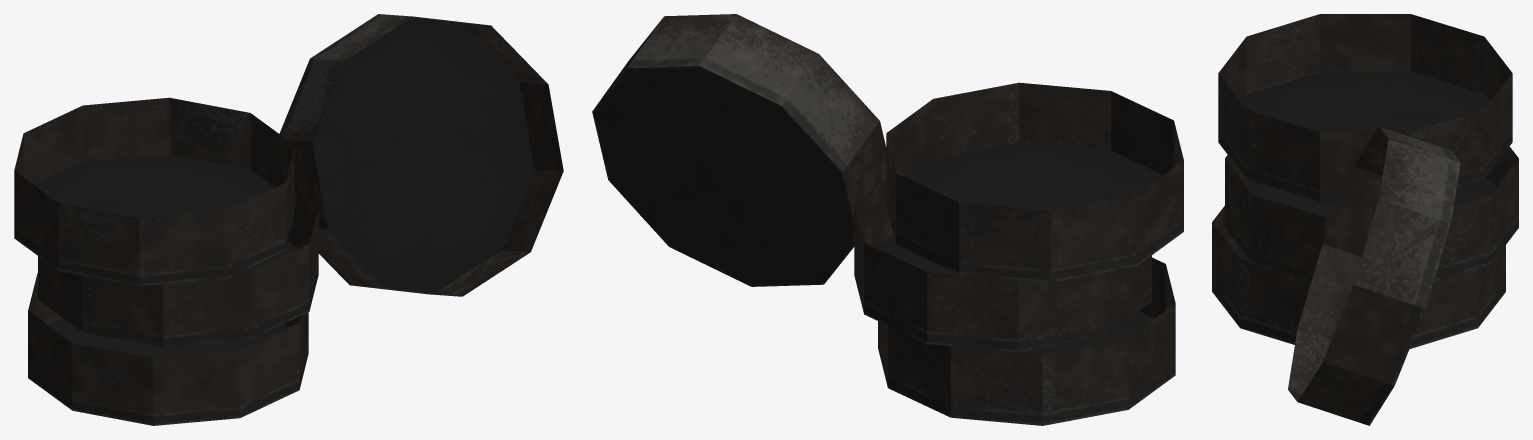
The model's file is Neumaticos.glb.
3 renders of one model, left to right at view 1: azimuth 30°, elevation 25°; view 2: azimuth 150°, elevation 25°; view 3: azimuth 270°, elevation 25°, orthographic. The views are drawn at different scales.
Visible parts, largest first — view 1: Neumaticos; view 2: Neumaticos; view 3: Neumaticos.
Part boxes in pixels (left/top/right/bottom): Neumaticos: left=14, top=14, right=563, bottom=425; Neumaticos: left=592, top=14, right=1183, bottom=425; Neumaticos: left=1212, top=14, right=1518, bottom=425.
Size of the model in its own units: 4.69 by 2.44 by 2.4.
Materials: 1 (1 with a texture image).
